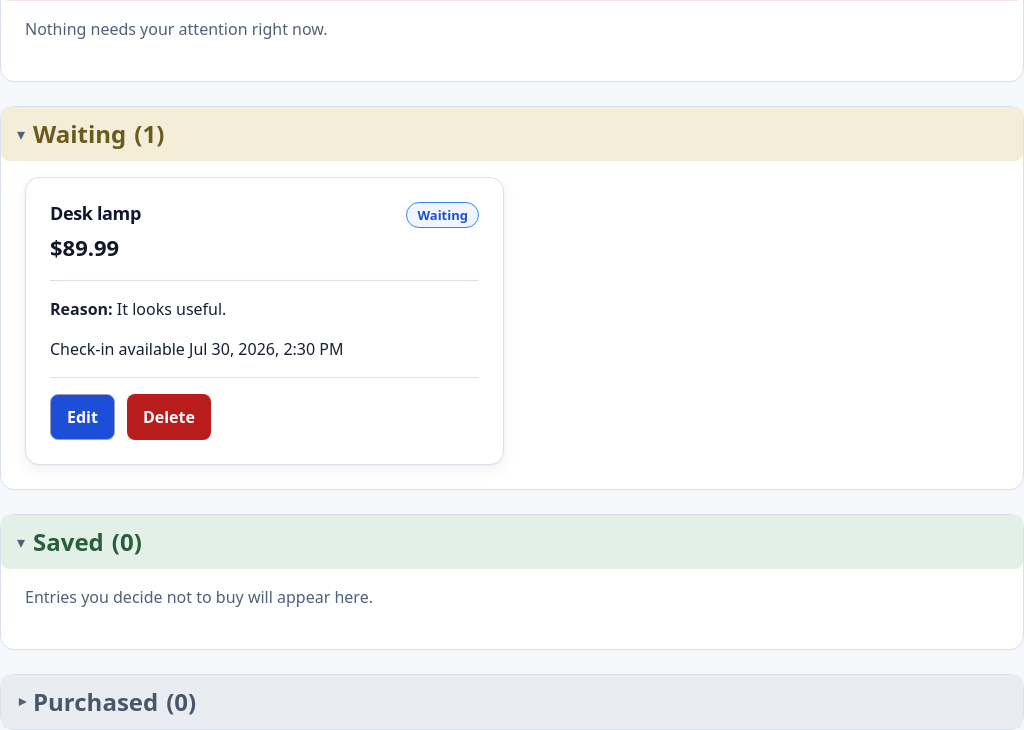
it: DashboardPage › keeps the entry and confirmation available after deletion fails
(page scrolled)
Click the button "Delete".
click(169, 417)  # box [127, 394, 211, 440]
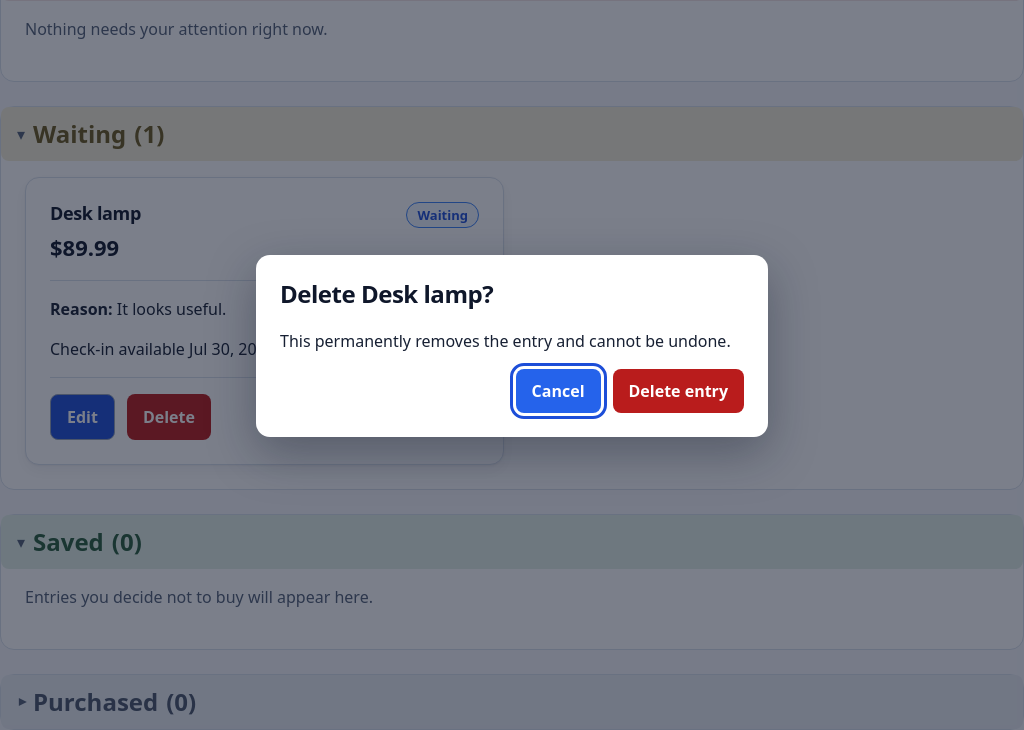
Click the button "Delete entry".
click(678, 391)  # box [612, 369, 744, 413]
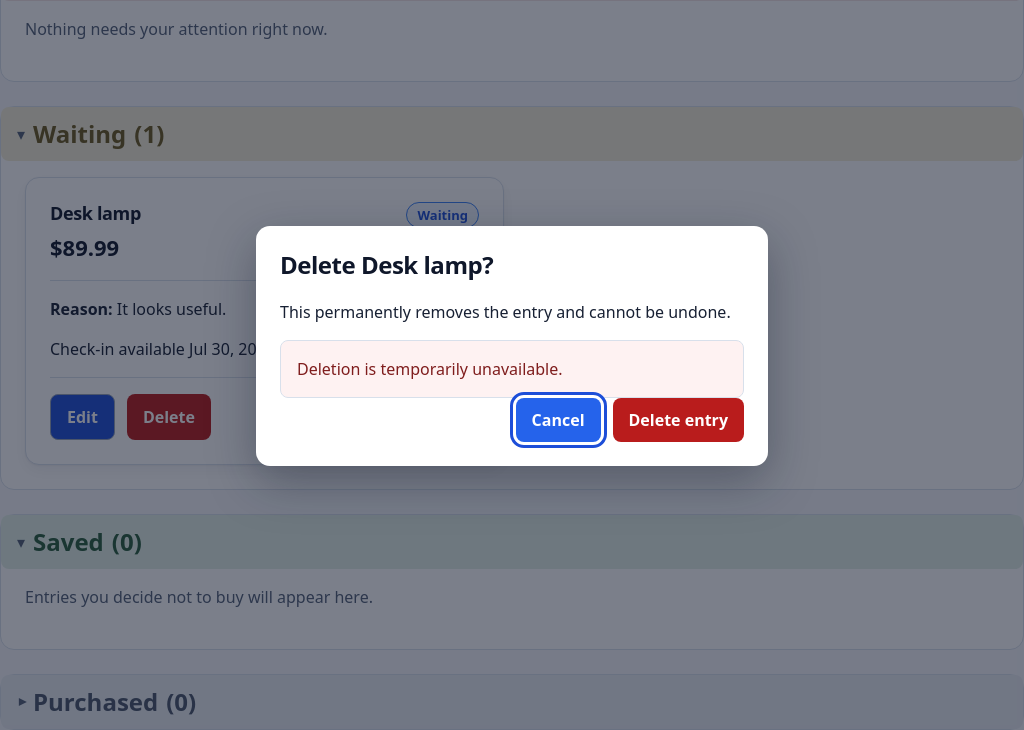
Check: the heading "Desk lamp" is shown, box [50, 202, 141, 225]
Check: the dialog is shown, box [256, 226, 768, 466]
Check: the message reads "Deletion is temporarily unavailable.", box [297, 358, 562, 380]
